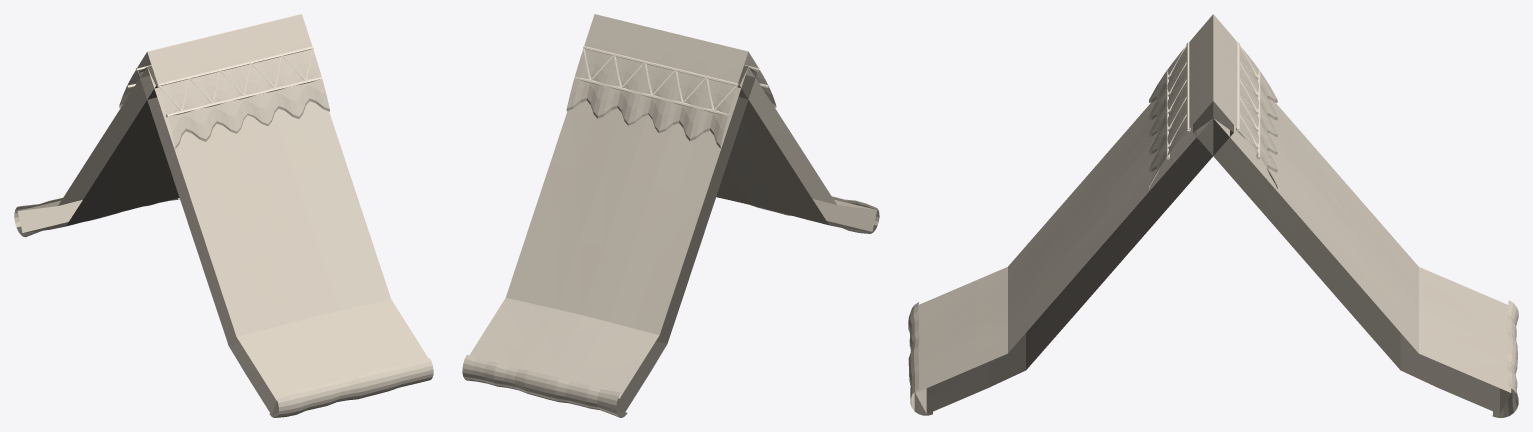
File: SM_VK_RoofThatch_Mid.fbx
The picture shows the model from 3 angles, left to right: view 1: azimuth 30°, elevation 25°; view 2: azimuth 150°, elevation 25°; view 3: azimuth 270°, elevation 25°; orthographic projection. The views are drawn at different scales.
Parts seen in each view (by area): view 1: SM_VK_RoofThatch_Mid.001; view 2: SM_VK_RoofThatch_Mid.001; view 3: SM_VK_RoofThatch_Mid.001.
Part boxes in pixels (x1,y1,x2,y2): SM_VK_RoofThatch_Mid.001: [14, 14, 433, 417]; SM_VK_RoofThatch_Mid.001: [462, 14, 879, 417]; SM_VK_RoofThatch_Mid.001: [908, 14, 1518, 417].
Size of the model in its own units: 3.03 by 5.11 by 8.91.
